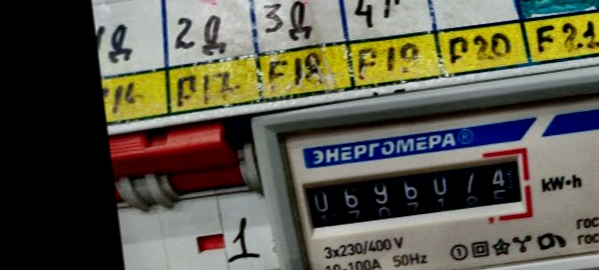0: (309, 185, 331, 211), (430, 168, 449, 195)
4: (488, 161, 506, 185)
5: (492, 186, 509, 203)
6: (401, 172, 421, 200), (341, 181, 361, 207)
7: (460, 166, 480, 192)
9: (371, 177, 390, 205)
screen: (291, 141, 538, 239)
